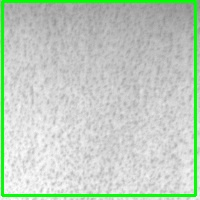pitted_surface: (2, 1, 195, 195)
